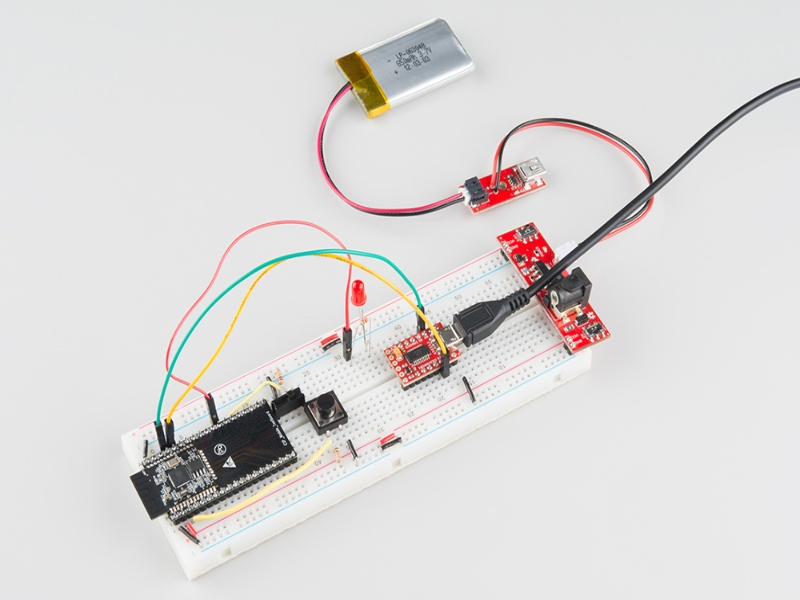esp32: (124, 401, 320, 525)
